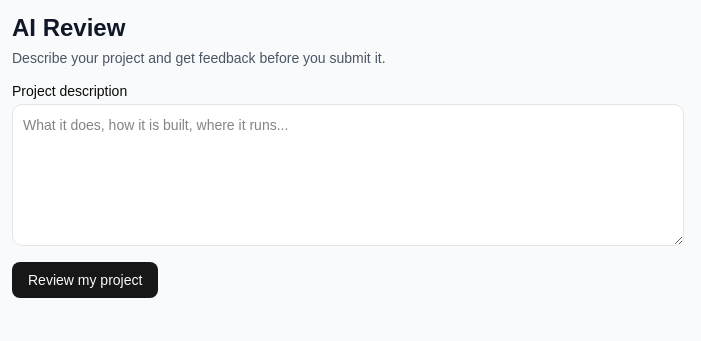
Test: ReviewPage › sends nothing to the API while the prompt is too short
Type "Too short" into the text box labelled "Project description" at (348, 175), box left=12, top=104, right=684, bottom=246
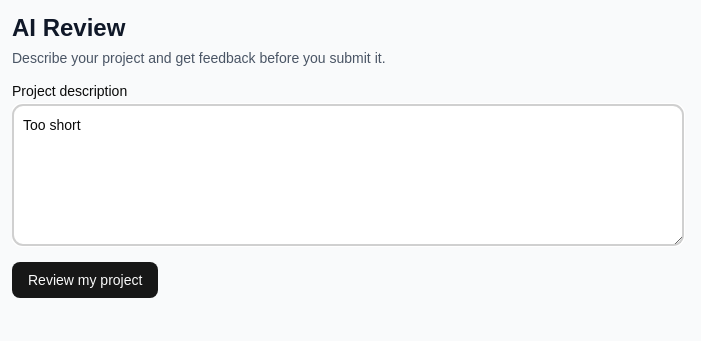
Click the button "Review my project" at (85, 280), box left=12, top=262, right=158, bottom=298
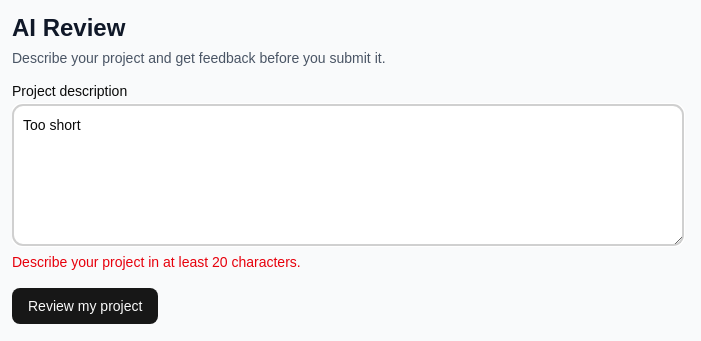
Now the text "Describe your project in at least 20 characters." is shown, box left=12, top=254, right=301, bottom=270
